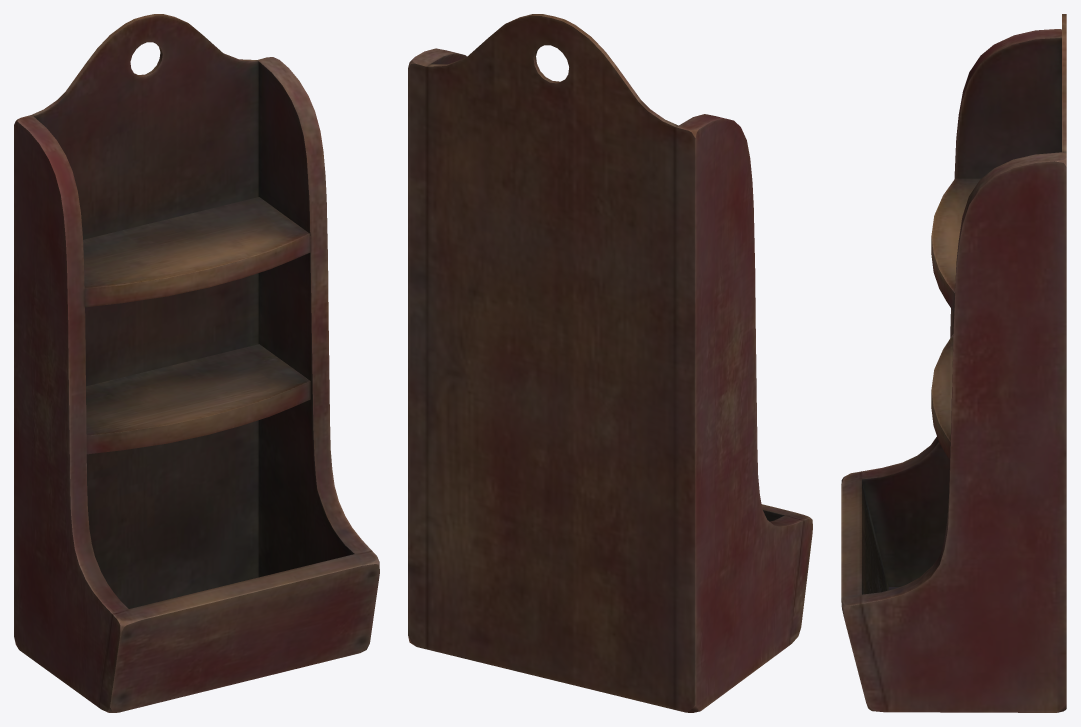
The model's file is painted_wooden_shelves.glb.
3 views of the same model, side by side, from view 1: azimuth 30°, elevation 25°; view 2: azimuth 150°, elevation 25°; view 3: azimuth 270°, elevation 25° (orthographic). The views are drawn at different scales.
Parts seen in each view (by area): view 1: painted_wooden_shelves; view 2: painted_wooden_shelves; view 3: painted_wooden_shelves.
Part boxes in pixels (x1,y1,x2,y2): painted_wooden_shelves: [14, 14, 379, 712]; painted_wooden_shelves: [408, 14, 812, 712]; painted_wooden_shelves: [841, 14, 1066, 712].
Size of the model in its own units: 0.5111 by 1.13 by 0.3671.
1 material, 1 textured.
